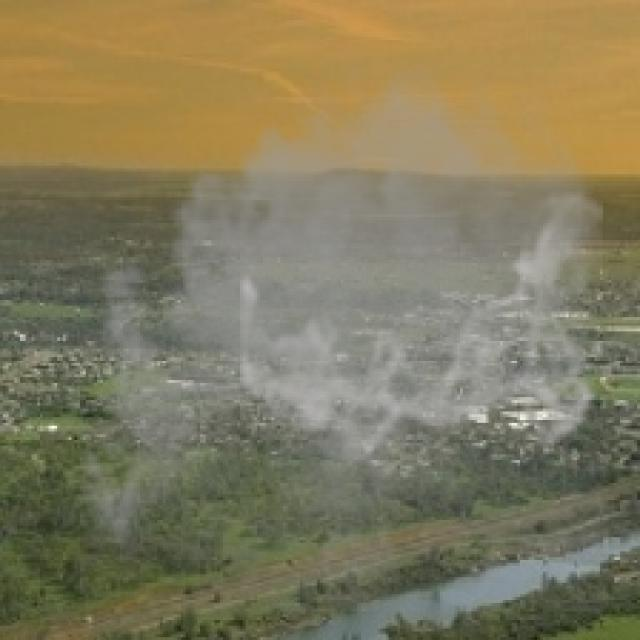smoke: (63, 46, 608, 611)
